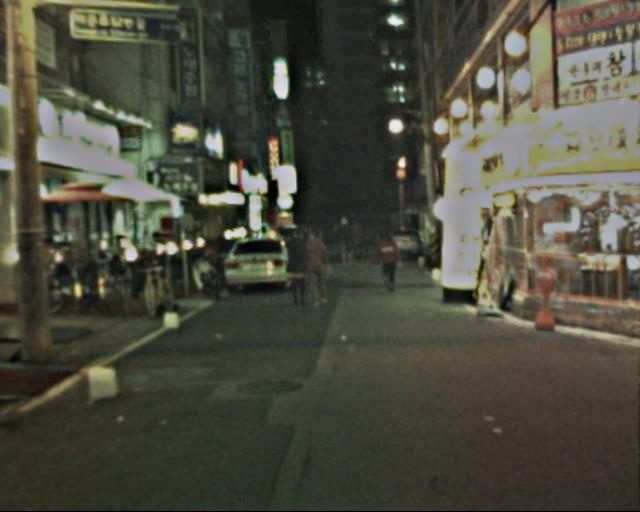person: (282, 226, 317, 313), (303, 225, 337, 313), (374, 226, 405, 300), (335, 220, 356, 271), (354, 224, 374, 263)
